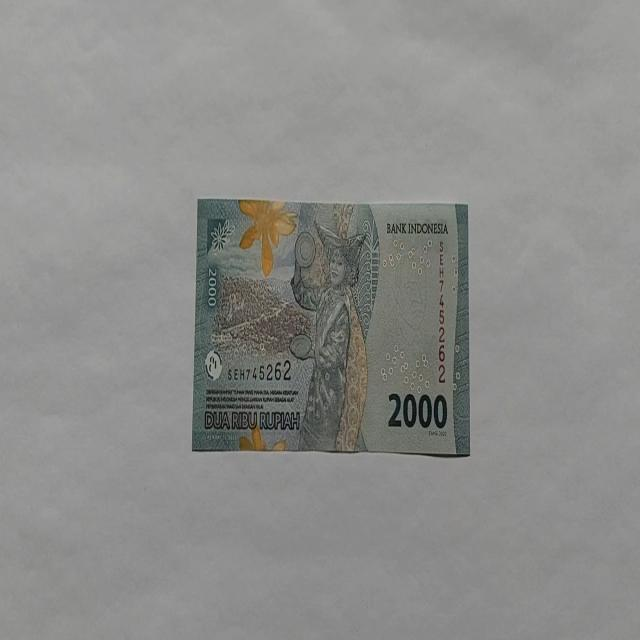dua ribu rupiah: (191, 197, 471, 456), (288, 218, 370, 452)
